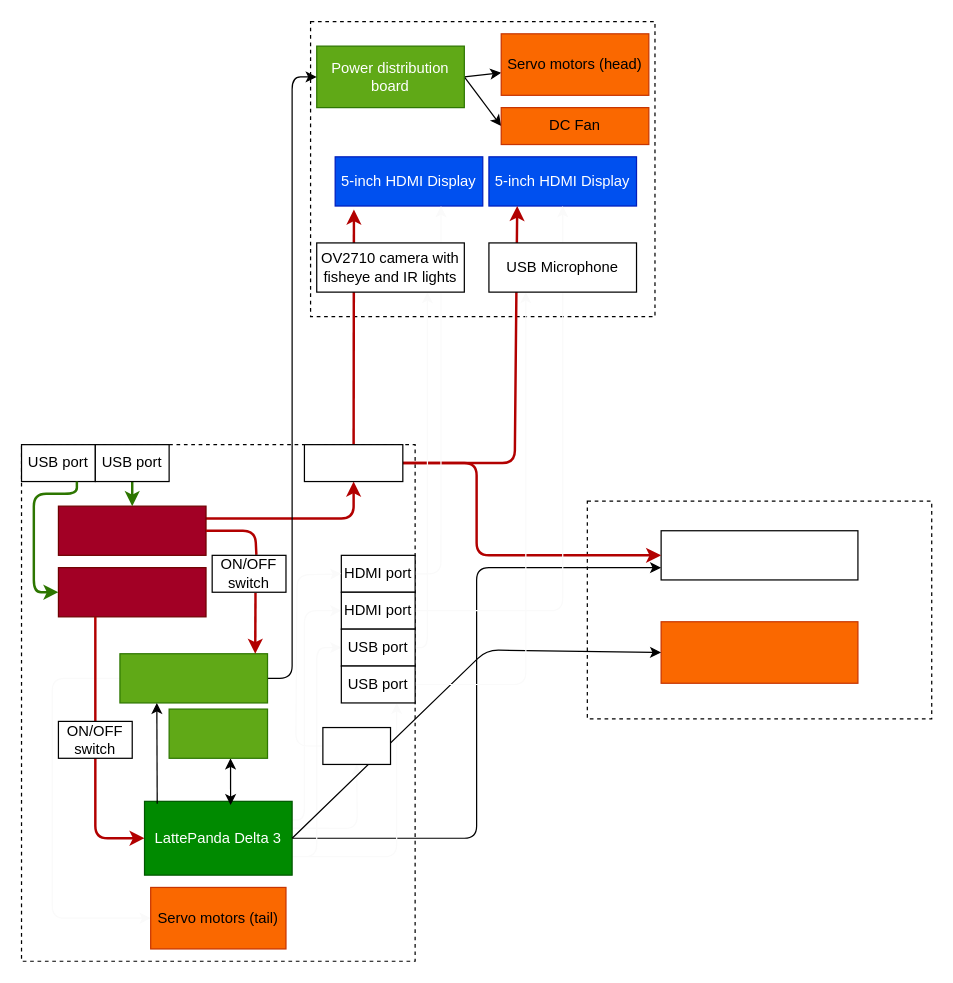
Some shapes in this 953 by 983 pixel diagram are drawn without their labels. The centre of each missing label's shape, as x and y in pixels:
3ATech V311 Speaker: (759,555)
5V 20000mAh Battery: (131,530)
BNO055 IMU: (218,733)
NeoPixel LED Strips / circuits: (759,652)
PCA9685 I2C Servo driver: (193,678)
PD 20V 45W Battery: (131,591)
USB hub with switches: (353,462)
USB-HDMI converter: (356,745)
